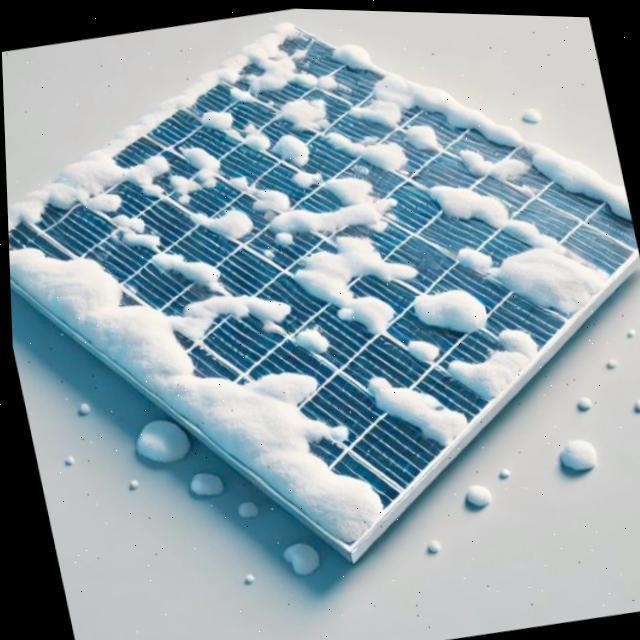Anomaly Solar Panel: (6, 7, 637, 574)
Snow: (7, 142, 445, 547), (5, 9, 349, 288), (315, 36, 630, 217), (405, 162, 614, 325), (284, 210, 422, 338), (225, 150, 401, 247), (98, 202, 236, 300), (355, 360, 470, 449), (441, 314, 548, 407), (457, 133, 544, 194), (154, 135, 226, 204), (318, 122, 412, 170), (411, 283, 487, 333), (186, 201, 252, 240), (278, 92, 328, 131), (270, 126, 313, 168), (293, 318, 331, 351), (404, 117, 442, 144), (287, 163, 321, 187), (243, 120, 271, 148), (406, 335, 435, 359), (202, 106, 235, 127)
